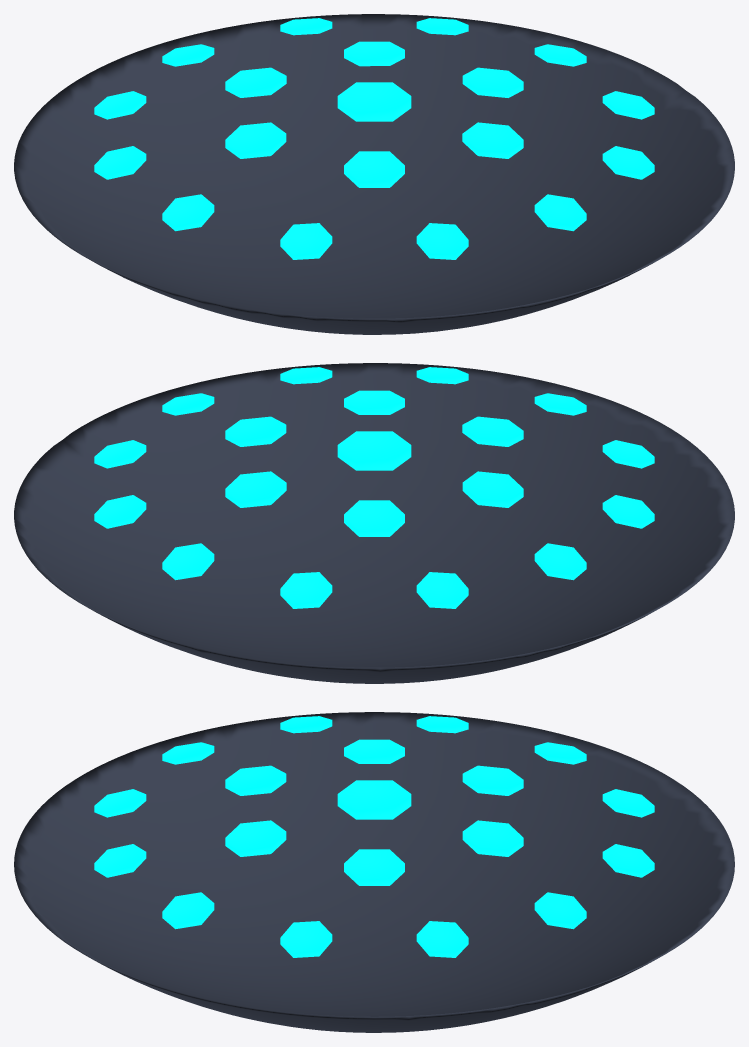
The model's file is shield_web.glb.
The picture shows the model from 3 angles, top to bottom: view 1: azimuth 30°, elevation 25°; view 2: azimuth 150°, elevation 25°; view 3: azimuth 270°, elevation 25°; orthographic projection.
Visible parts, largest first — view 1: Shield, Hexagons_Group, Hex_center; view 2: Shield, Hexagons_Group, Hex_center; view 3: Shield, Hexagons_Group, Hex_center.
Part boxes in pixels (x1=…): Shield: x1=14, y1=14, x2=734, y2=334; Hexagons_Group: x1=94, y1=18, x2=654, y2=259; Hex_center: x1=337, y1=82, x2=411, y2=121; Shield: x1=14, y1=363, x2=734, y2=683; Hexagons_Group: x1=94, y1=367, x2=654, y2=608; Hex_center: x1=337, y1=431, x2=411, y2=470; Shield: x1=14, y1=712, x2=734, y2=1032; Hexagons_Group: x1=94, y1=716, x2=654, y2=957; Hex_center: x1=337, y1=780, x2=411, y2=819.
Size of the model in its own units: 2 by 0.5658 by 2.
